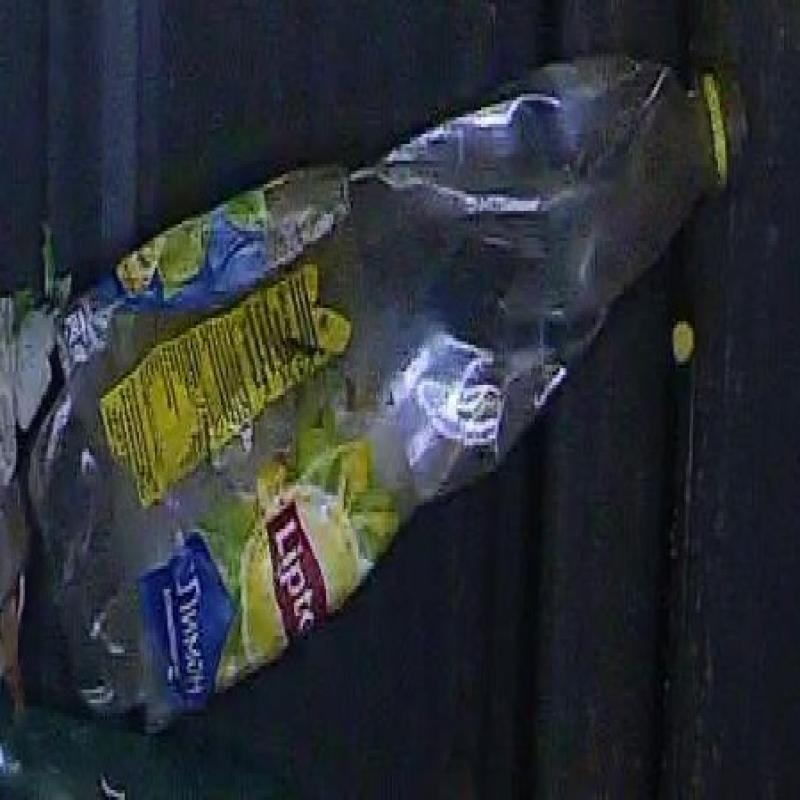botella: (22, 65, 753, 747)
